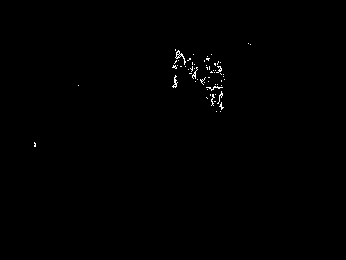person: (170, 48, 198, 91), (204, 58, 226, 112)
